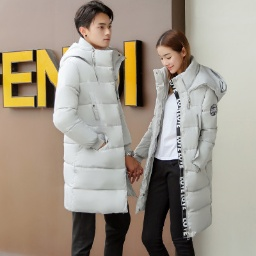face: (70, 1, 118, 50), (151, 30, 193, 75)
